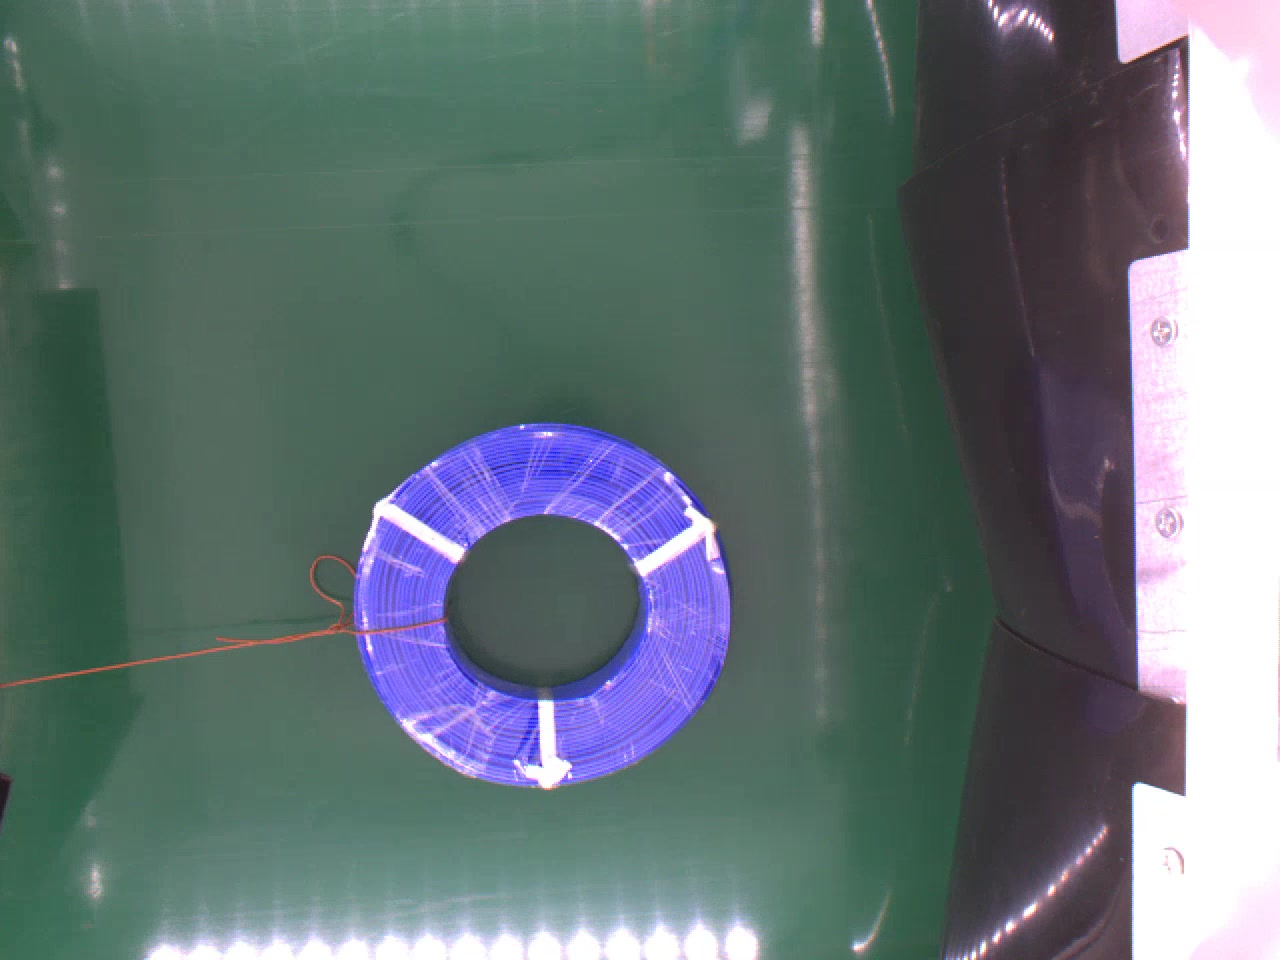blue: (350, 414, 744, 786)
